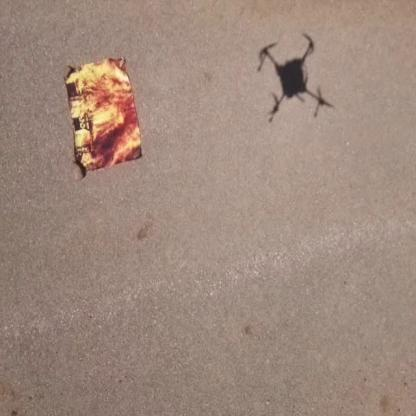fire-poster: (63, 55, 144, 176)
